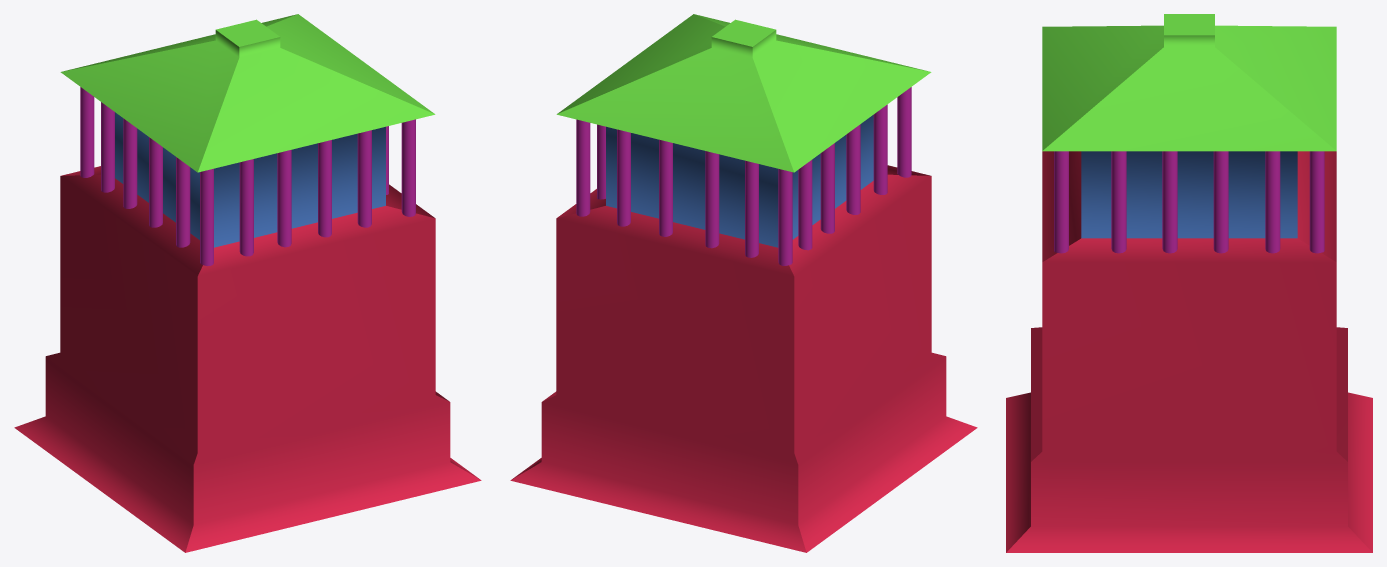
Rendered from Mausolem at Halicarnassus.fbx.
The picture shows the model from 3 angles, left to right: view 1: azimuth 30°, elevation 25°; view 2: azimuth 150°, elevation 25°; view 3: azimuth 270°, elevation 25°; orthographic projection. The views are drawn at different scales.
Parts seen in each view (by area): view 1: Mausolem_at_Halicarnassus2; view 2: Mausolem_at_Halicarnassus2; view 3: Mausolem_at_Halicarnassus2.
Part boxes in pixels (x1,y1,x2,y2): Mausolem_at_Halicarnassus2: [14, 14, 481, 552]; Mausolem_at_Halicarnassus2: [510, 14, 977, 552]; Mausolem_at_Halicarnassus2: [1006, 14, 1372, 552].
Bounding box in the file's own units: 23.69 × 32.13 × 23.69.
